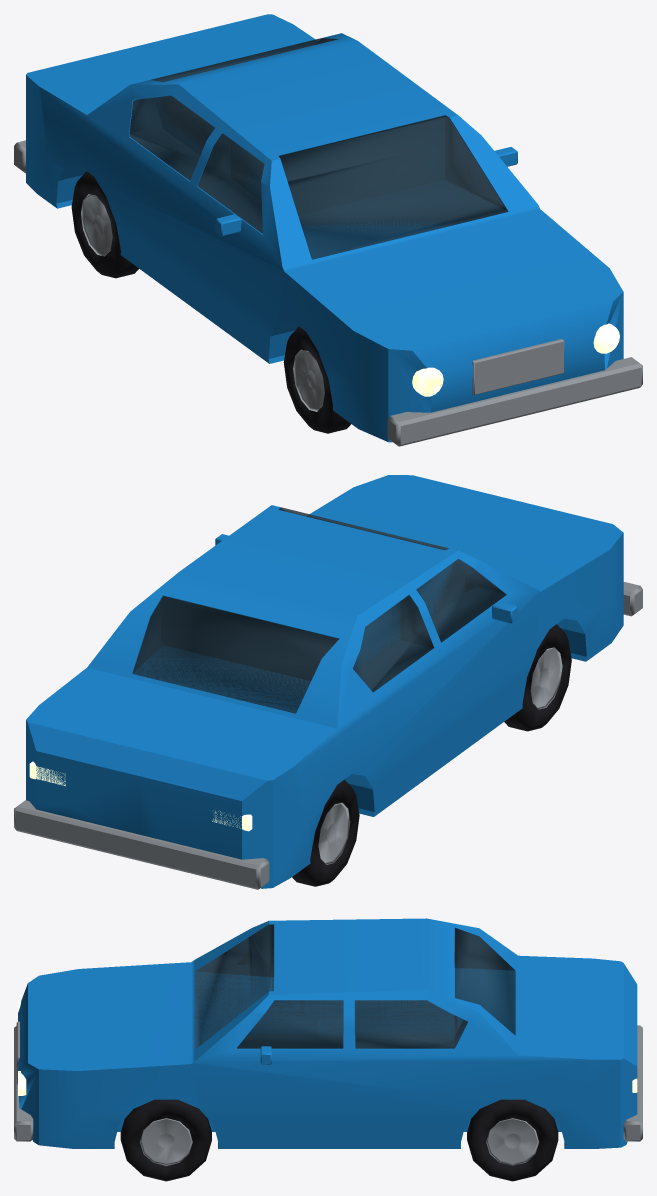
The model's file is Sedan01_Roblox.fbx.
3 views of the same model, one above another, from view 1: azimuth 30°, elevation 25°; view 2: azimuth 150°, elevation 25°; view 3: azimuth 270°, elevation 25° (orthographic). The views are drawn at different scales.
Parts seen in each view (by area): view 1: Chassis, Windows, Bumpers, Trim, Tire_RR, Tire_FR, Rim_RR, Rim_FR, Lights; view 2: Chassis, Windows, Bumpers, Tire_FR, Tire_RR, Rim_FR, Rim_RR, Lights; view 3: Chassis, Windows, Tire_RL, Tire_FL, Rim_RL, Rim_FL, Bumpers.
Part boxes in pixels (<box>): Chassis: <box>26,14,623,442</box>; Windows: <box>129,38,507,259</box>; Bumpers: <box>14,140,642,446</box>; Trim: <box>472,339,564,395</box>; Tire_RR: <box>71,171,138,278</box>; Tire_FR: <box>283,326,350,433</box>; Rim_RR: <box>81,194,112,256</box>; Rim_FR: <box>293,349,324,411</box>; Lights: <box>412,323,619,396</box>; Chassis: <box>26,475,623,888</box>; Windows: <box>132,507,506,713</box>; Bumpers: <box>14,582,642,889</box>; Tire_FR: <box>504,624,571,731</box>; Tire_RR: <box>292,779,359,886</box>; Rim_FR: <box>530,647,562,709</box>; Rim_RR: <box>318,802,350,864</box>; Lights: <box>29,761,252,831</box>; Chassis: <box>18,918,637,1148</box>; Windows: <box>195,924,515,1049</box>; Tire_RL: <box>467,1099,558,1181</box>; Tire_FL: <box>120,1099,211,1181</box>; Rim_RL: <box>486,1118,538,1165</box>; Rim_FL: <box>140,1118,192,1165</box>; Bumpers: <box>14,1025,642,1141</box>.
Size of the model in its own units: 7.21 by 5.18 by 16.21.
